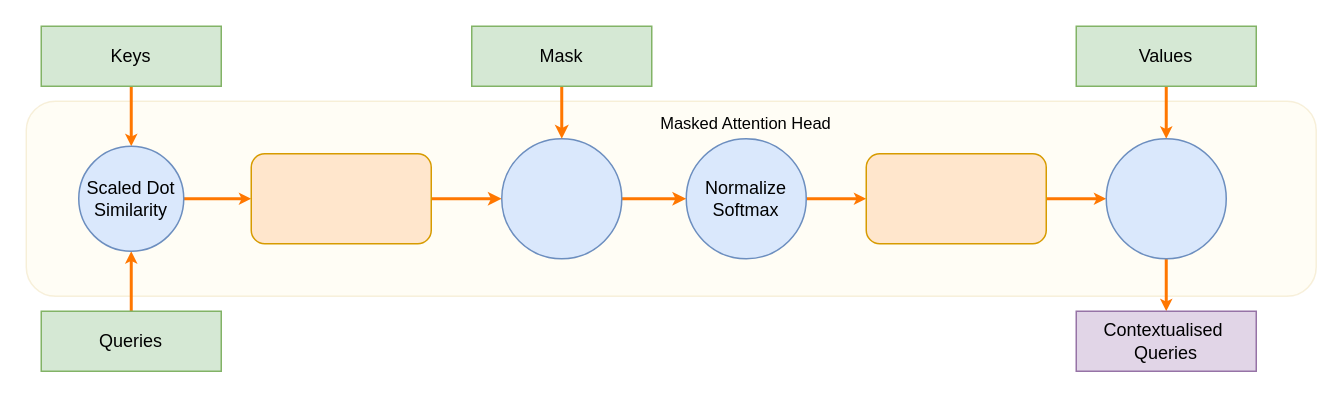
Some shapes in this 1343 by 398 pixel diagram are drawn without their labels. The shapes that lost their labels are listed below. From the top down, each one's centre as x and y in pixels, then its label:
At (340,198): "Scores".
At (561,198): "Add".
At (955,198): "Normalised Scores".
At (1165,198): "Multiply".
